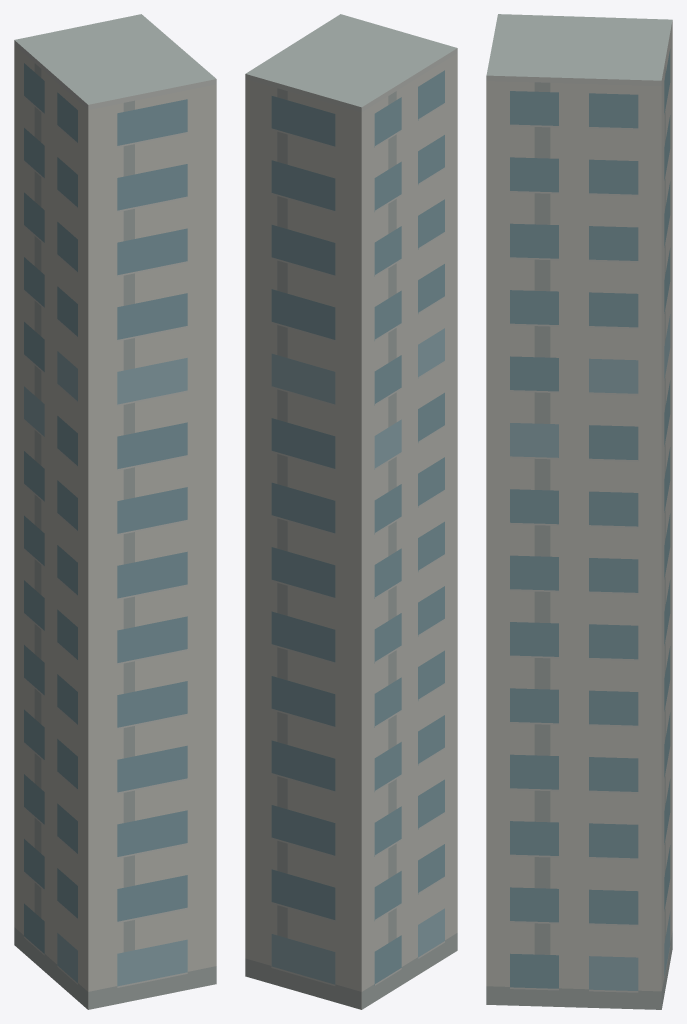
Rendered from survey-upis-32996641.glb.
3 views of the same model, side by side, from view 1: azimuth 30°, elevation 25°; view 2: azimuth 150°, elevation 25°; view 3: azimuth 270°, elevation 25° (orthographic). The views are drawn at different scales.
Parts seen in each view (by area): view 1: survey-upis-32996641.tmp; view 2: survey-upis-32996641.tmp; view 3: survey-upis-32996641.tmp.
Part boxes in pixels (x1,y1,x2,y2): survey-upis-32996641.tmp: (14,14,216,1009); survey-upis-32996641.tmp: (245,14,457,1009); survey-upis-32996641.tmp: (486,14,672,1009).
Bounding box in the file's own units: 6.58 × 42.7 × 7.76.
